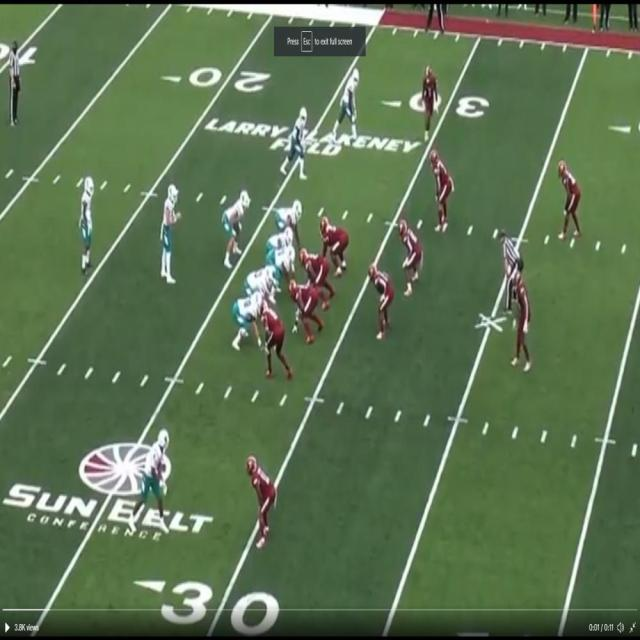center: (273, 246, 295, 278)
db: (247, 456, 277, 548), (516, 266, 534, 362), (562, 160, 582, 242), (421, 66, 439, 118)
lb: (371, 263, 394, 336), (434, 149, 453, 229), (399, 222, 420, 293)
qb: (162, 180, 180, 282)
skill: (136, 425, 170, 520), (224, 191, 249, 263), (289, 116, 312, 182), (80, 176, 92, 252), (344, 68, 360, 123)
